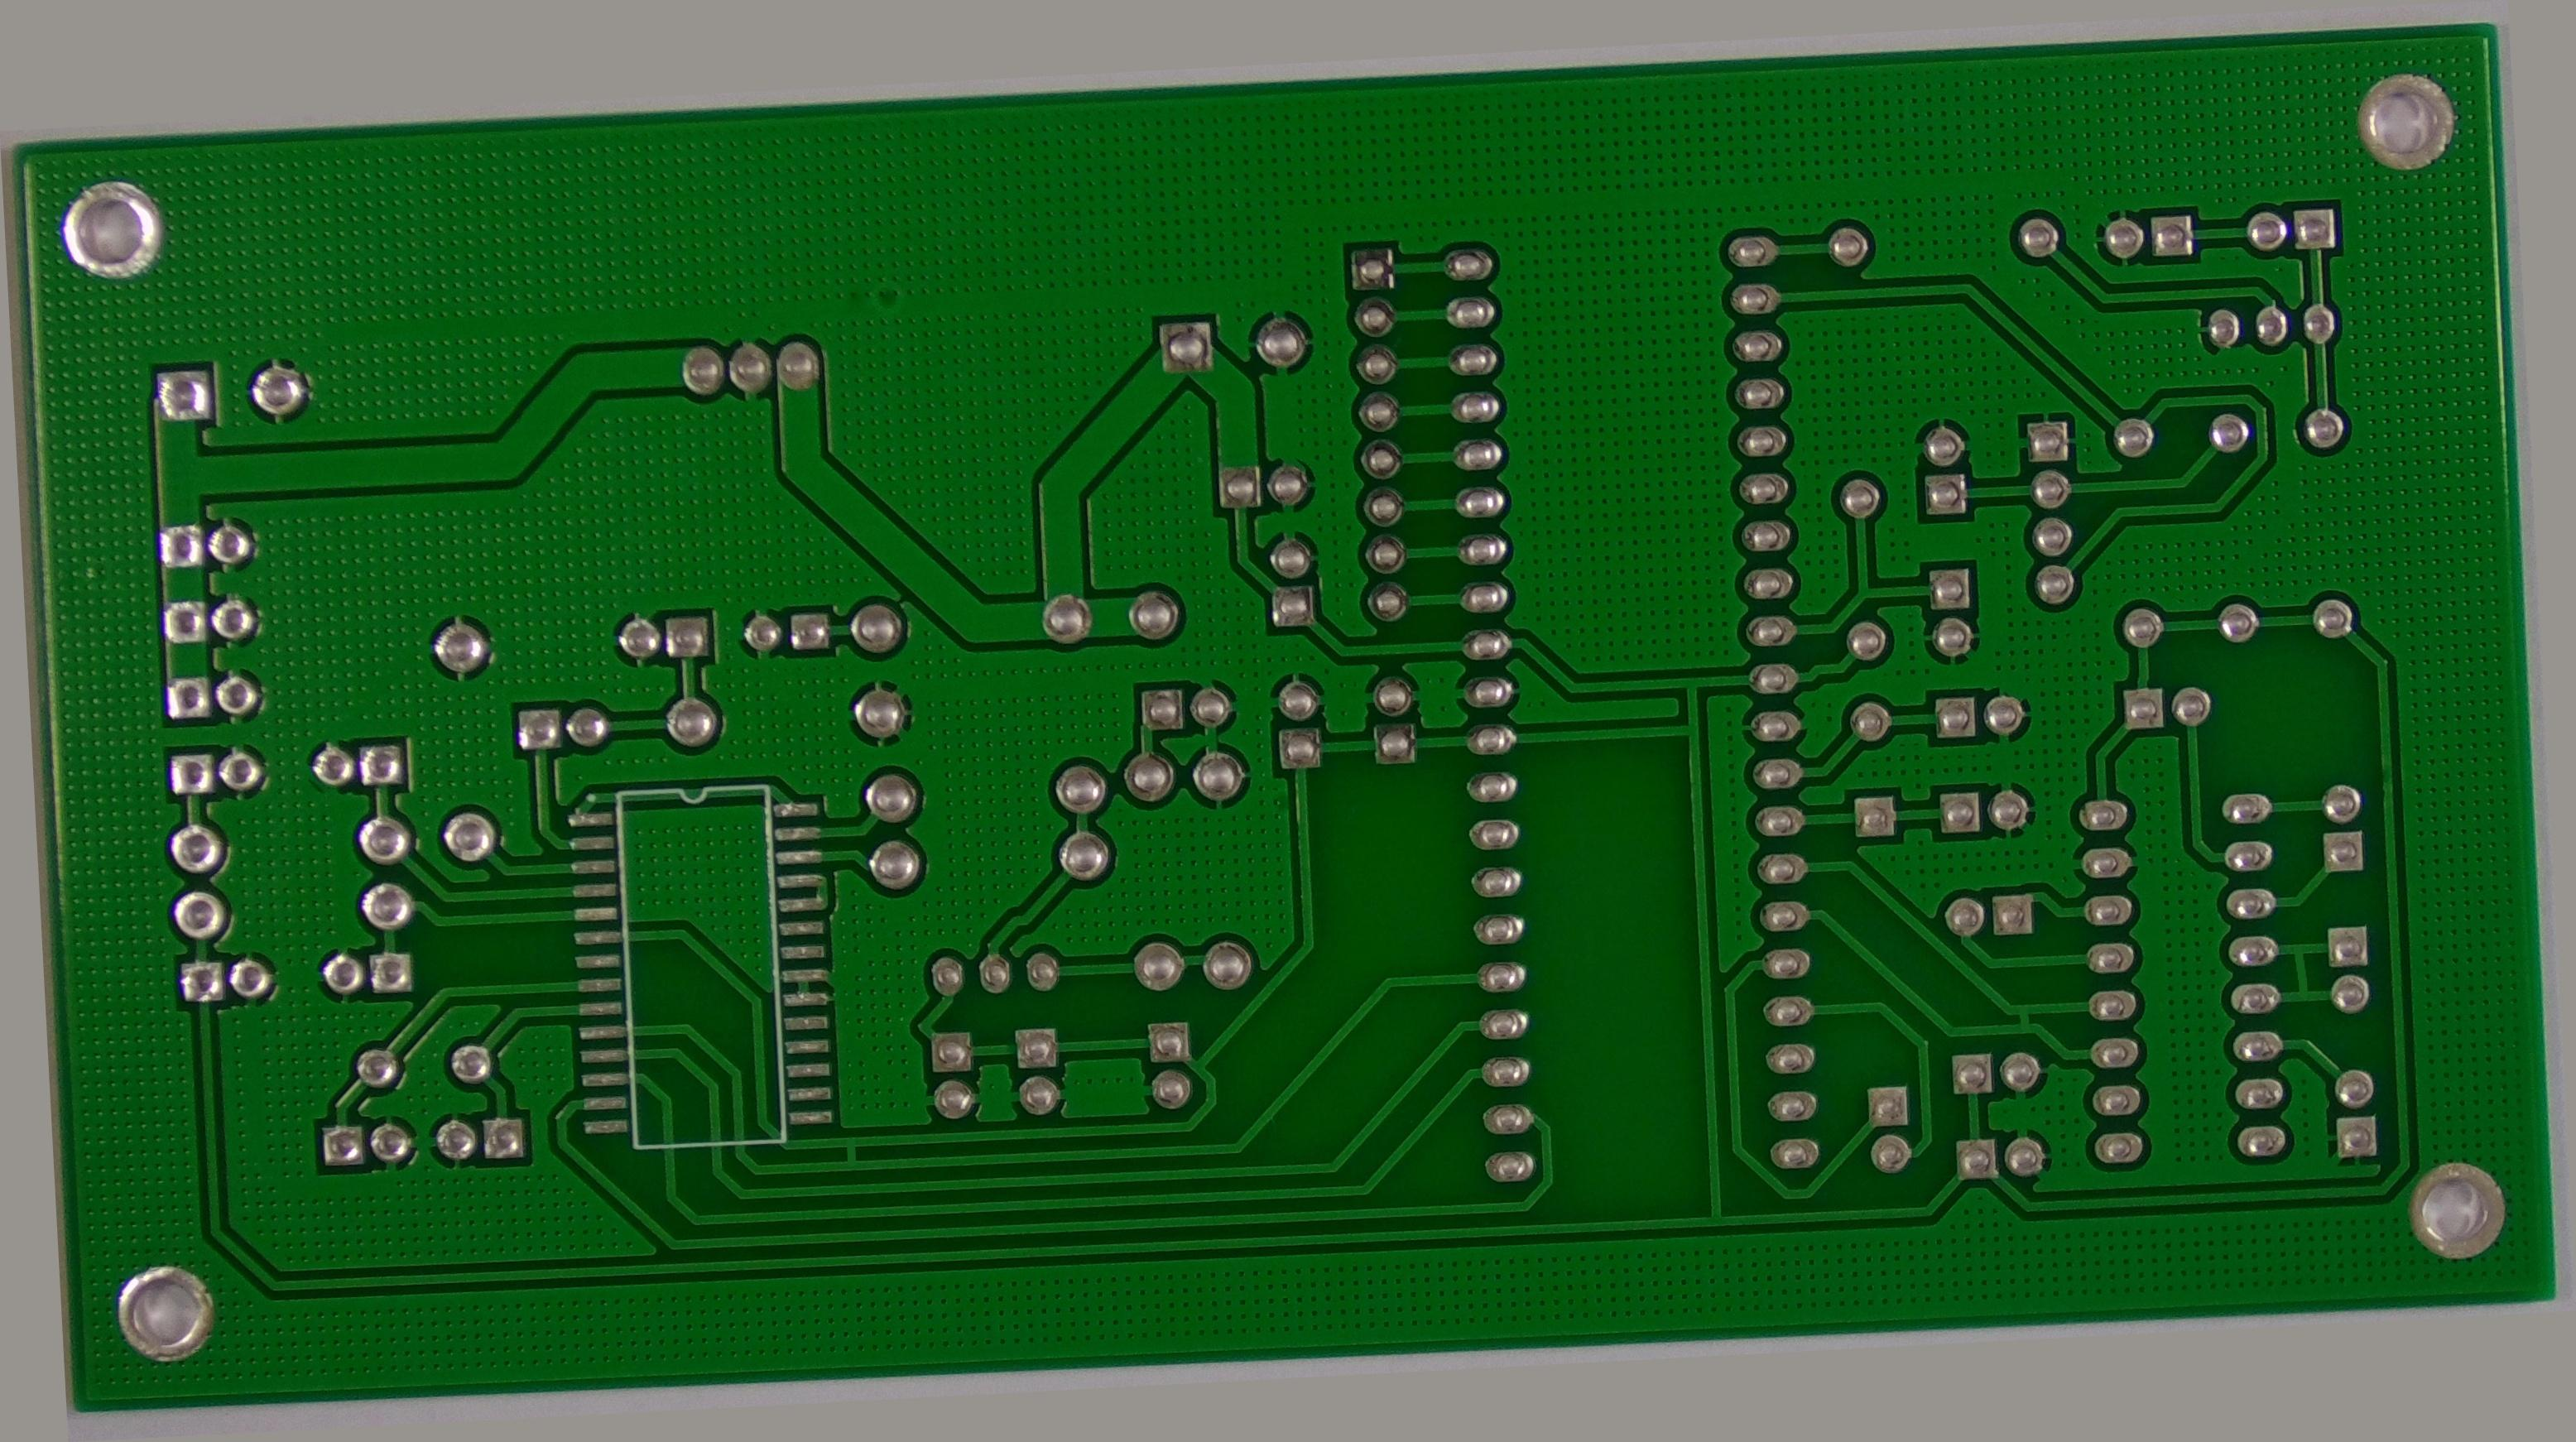short: (2263, 1009, 2351, 1099), (1997, 1060, 2054, 1120), (793, 1136, 844, 1194)
